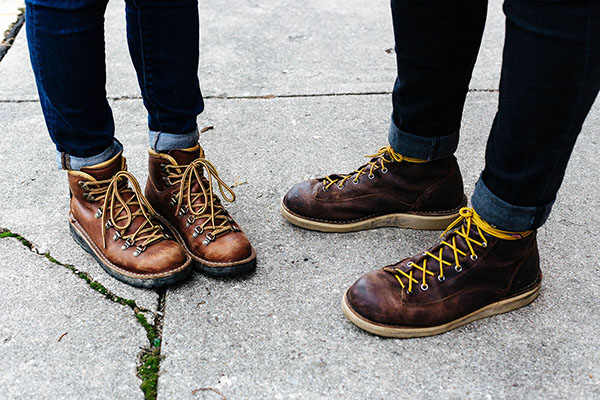shoes-boots-left: (134, 131, 267, 283)
shoes-boots-right: (282, 122, 470, 235), (56, 149, 194, 294)
